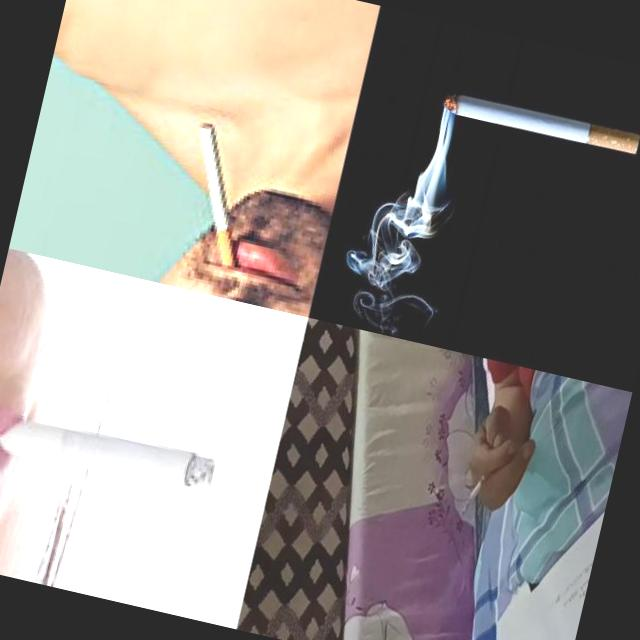cigarette: (0, 406, 218, 497), (167, 119, 269, 278), (441, 89, 640, 155), (459, 462, 494, 520)
